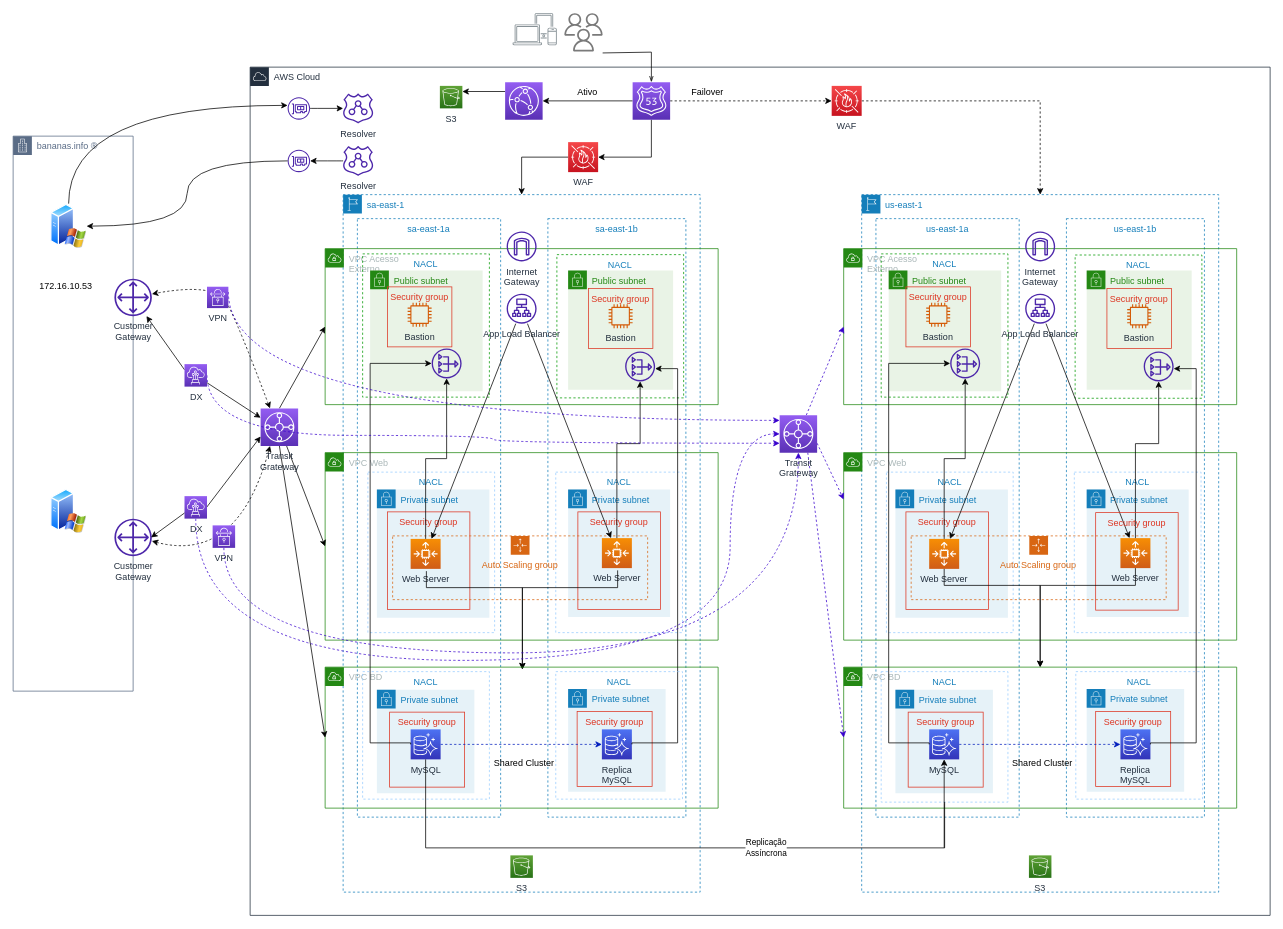
This 1283x929 diagram has some shape labels left out. Each missing label, with the box of its shape:
CDN: (504, 81, 543, 120)
Dispositivos: (512, 13, 556, 45)
DNS: (632, 81, 670, 120)
DNS internals.bananas.info: (50, 203, 86, 248)
Inbound: (287, 97, 310, 119)
Outbound: (287, 149, 310, 172)
